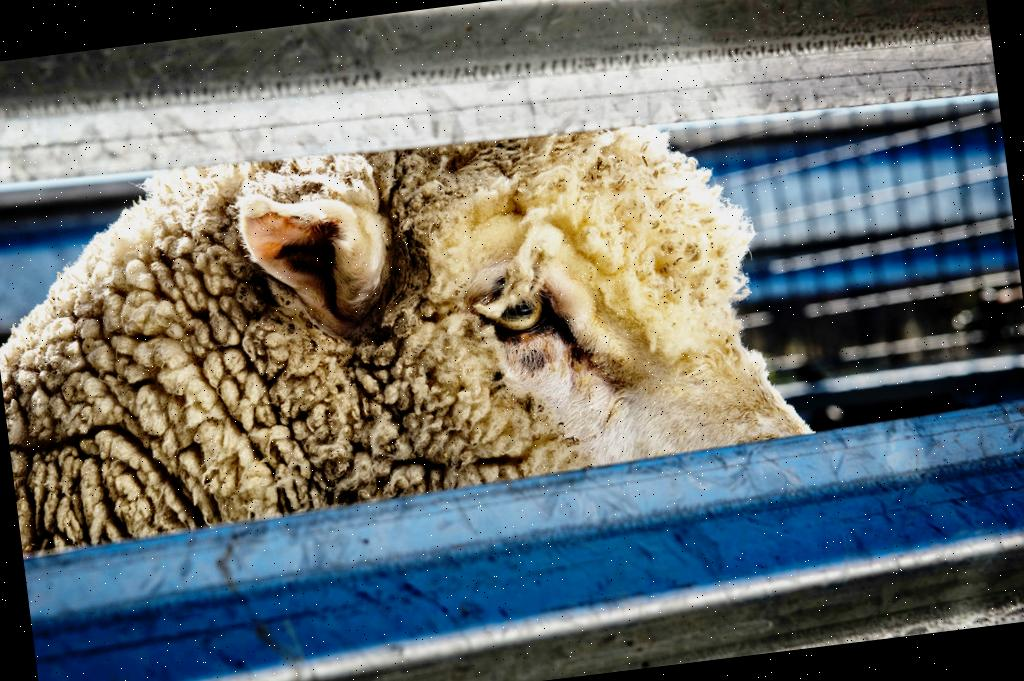Sheep: (0, 93, 819, 553)
